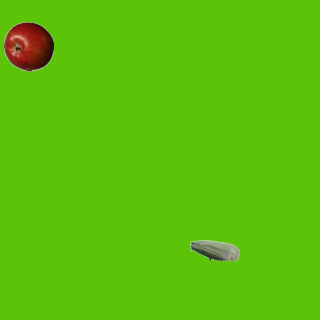Apple Braeburn: (3, 21, 53, 71)
Corn Husk: (189, 225, 239, 275)
